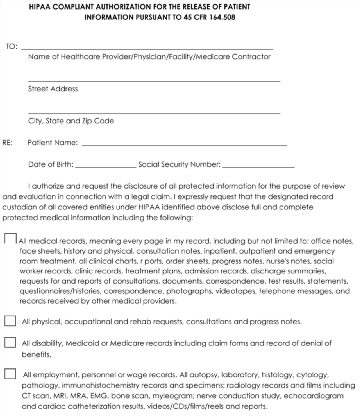checkbox: (1, 231, 19, 248), (2, 334, 19, 351), (1, 366, 19, 381), (2, 314, 19, 329)
textline: (24, 75, 285, 85), (20, 42, 276, 52), (24, 108, 286, 117), (79, 139, 288, 148), (220, 162, 299, 171), (74, 160, 138, 170)
